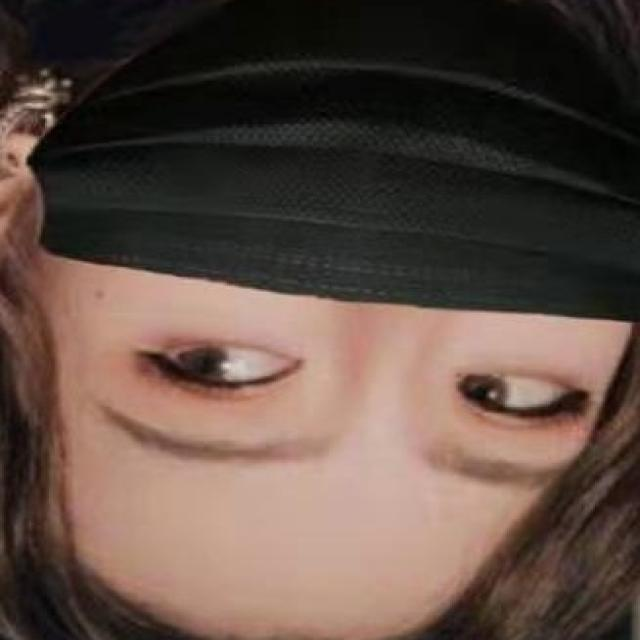Mask: (29, 18, 618, 375)
